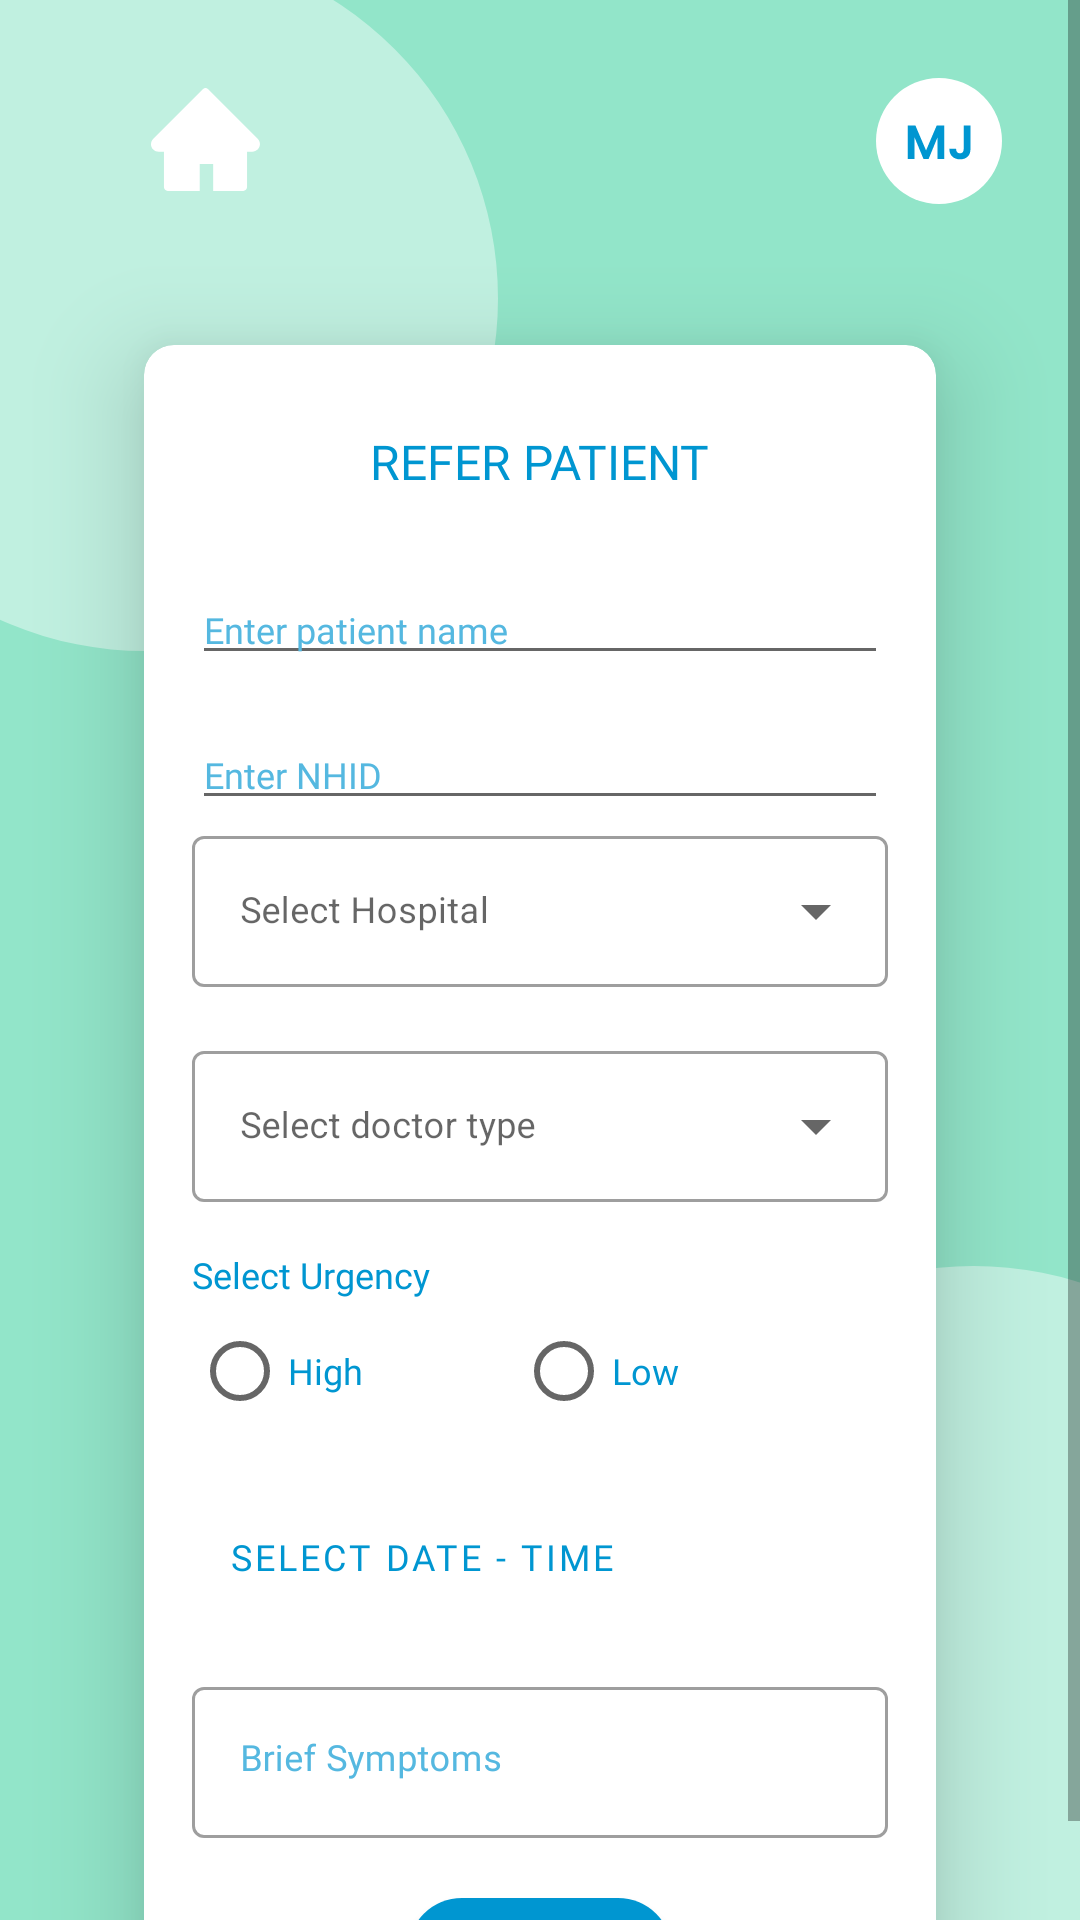

Point at icon controls on the screen. Image size 1080px x 1920px, points as (x=x, y=y).
home: (x=205, y=139)
user: (x=939, y=141)
